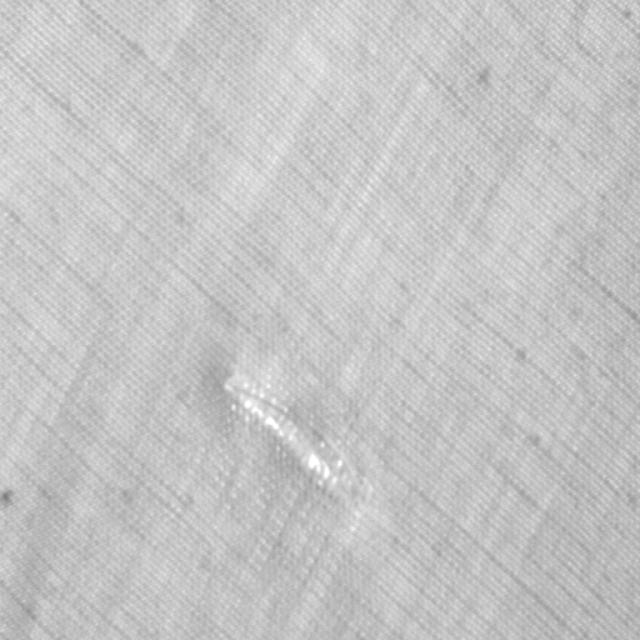hole: (212, 358, 370, 512)
